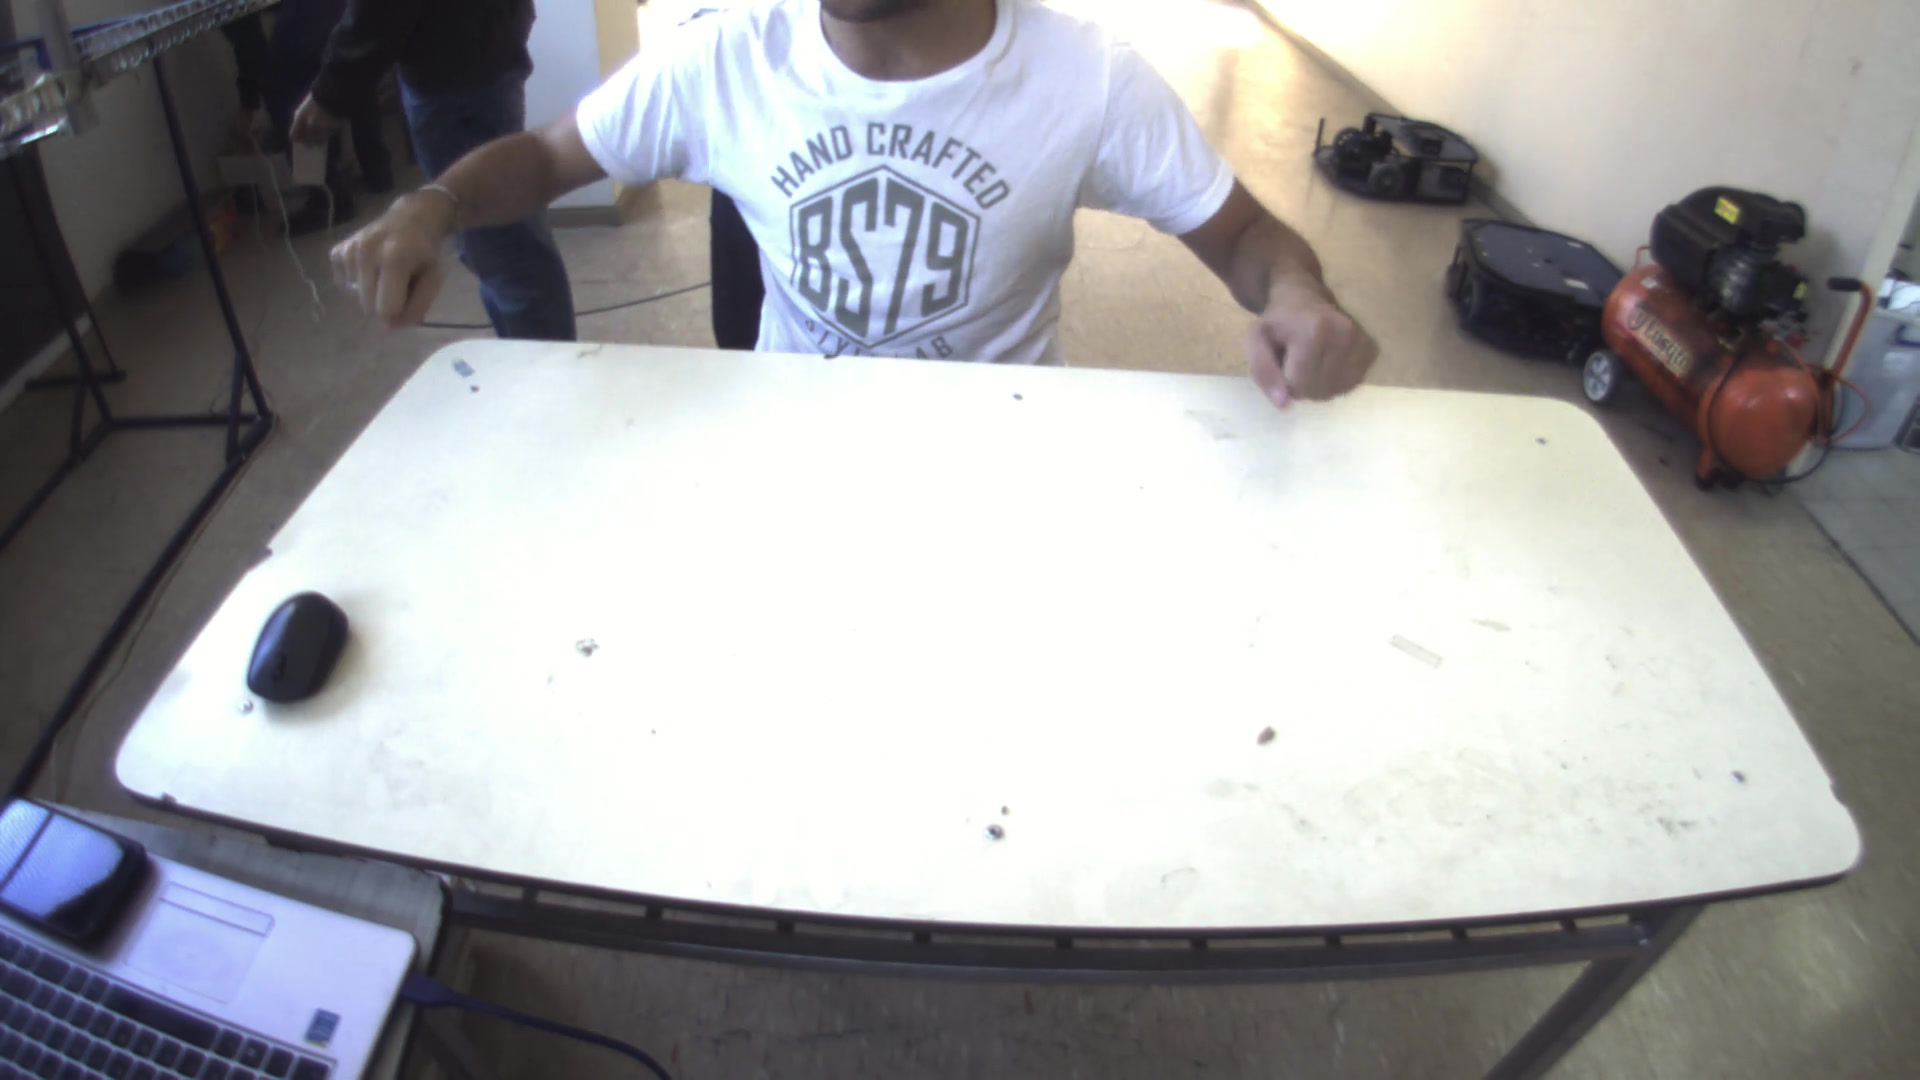hand: (324, 171, 458, 324), (1240, 276, 1394, 405)
